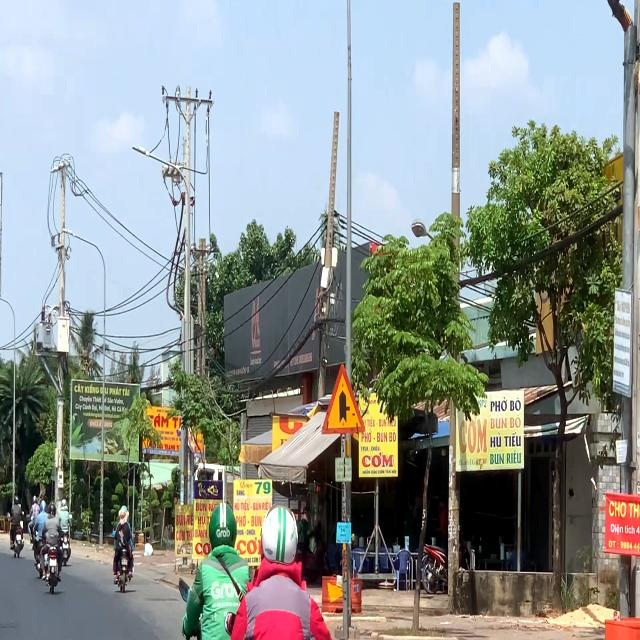W.207b: (321, 363, 366, 436)
